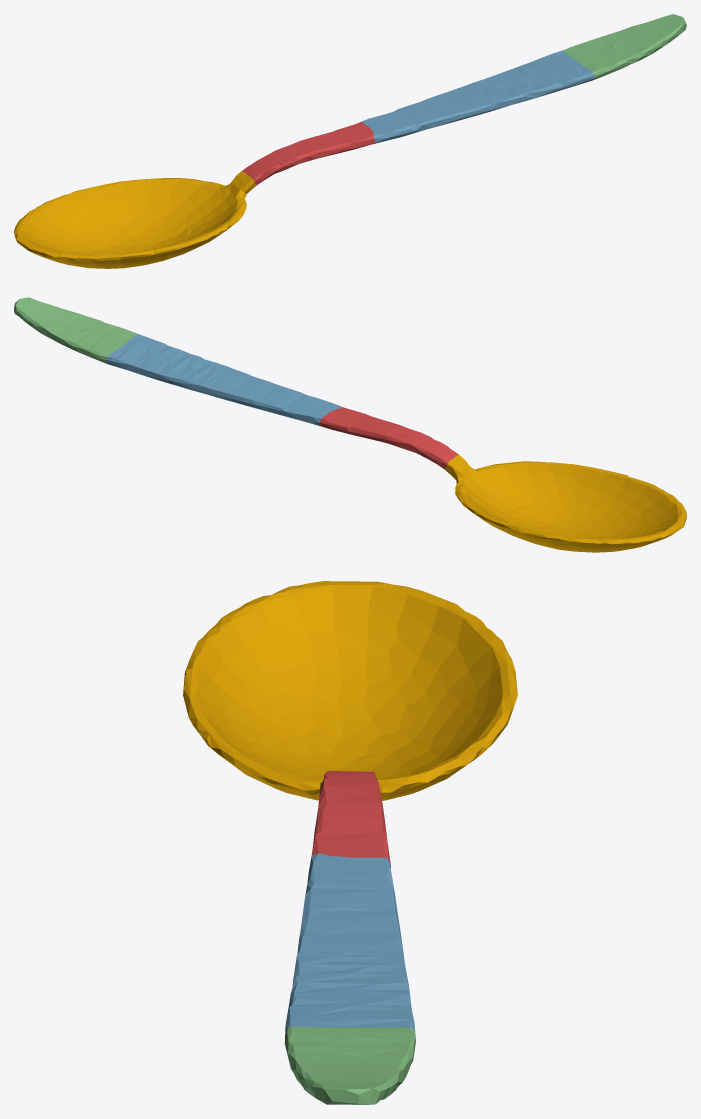
File: mode_3_4pcs.glb
3 views of the same model, one above another, from view 1: azimuth 30°, elevation 25°; view 2: azimuth 150°, elevation 25°; view 3: azimuth 270°, elevation 25° (orthographic). The views are drawn at different scales.
Visible parts, largest first — view 1: piece_0.obj, piece_2.obj, piece_3.obj, piece_1.obj; view 2: piece_0.obj, piece_2.obj, piece_3.obj, piece_1.obj; view 3: piece_0.obj, piece_2.obj, piece_3.obj, piece_1.obj.
Part boxes in pixels (<box>): piece_0.obj: <box>14,171,256,268</box>; piece_2.obj: <box>361,50,593,143</box>; piece_3.obj: <box>563,14,686,80</box>; piece_1.obj: <box>241,121,375,185</box>; piece_0.obj: <box>445,455,686,552</box>; piece_2.obj: <box>106,334,344,426</box>; piece_3.obj: <box>14,297,137,363</box>; piece_1.obj: <box>320,407,458,469</box>; piece_0.obj: <box>183,581,517,800</box>; piece_2.obj: <box>285,853,415,1032</box>; piece_3.obj: <box>284,1026,415,1104</box>; piece_1.obj: <box>312,771,390,863</box>.
Bounding box in the file's own units: 1 × 0.152 × 0.2193.
